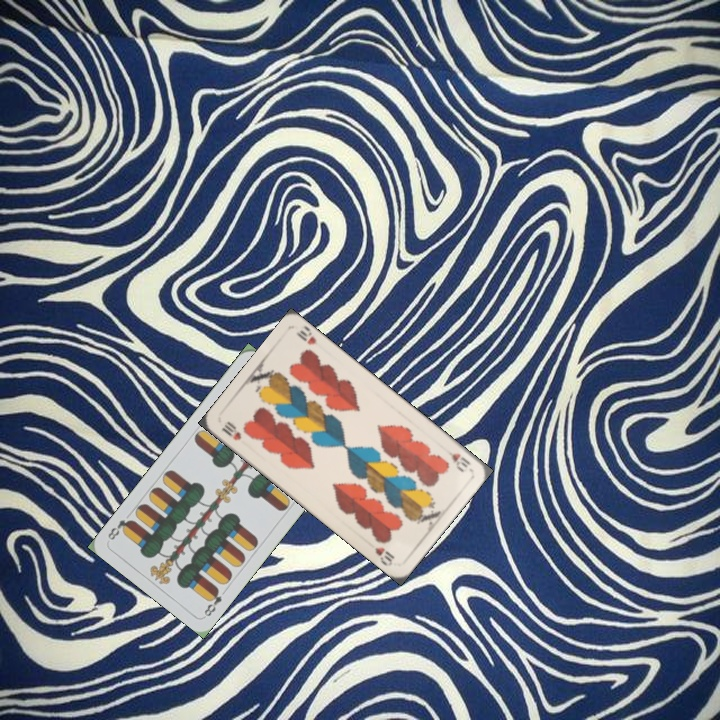E8: (200, 584, 224, 619)
H10: (438, 445, 473, 474), (218, 417, 244, 443)
